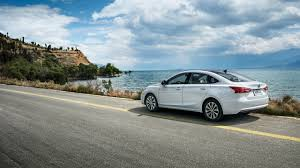car: (141, 67, 274, 121)
